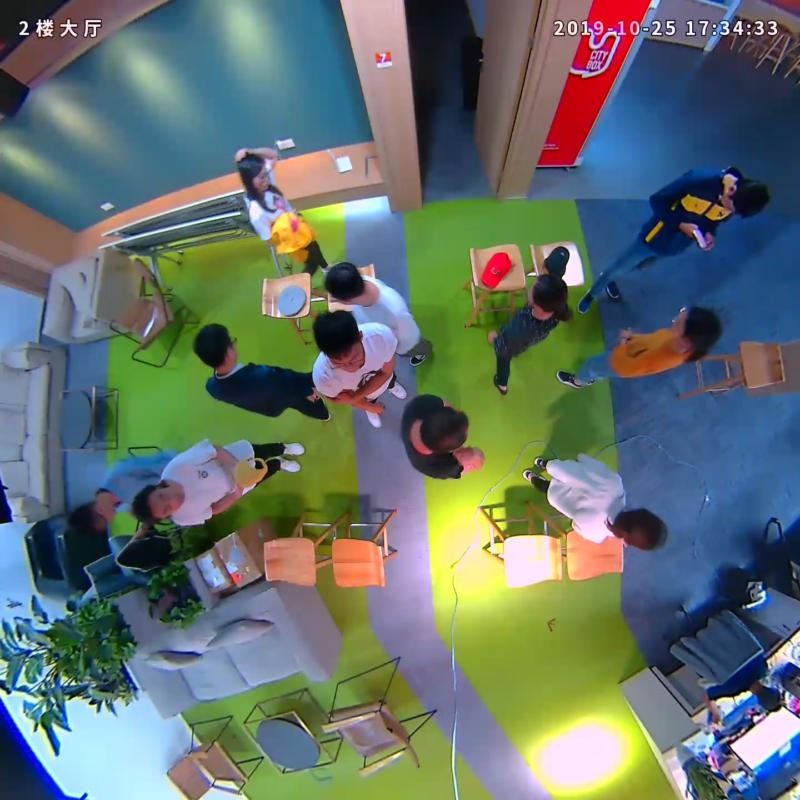head: (313, 310, 364, 373), (419, 405, 469, 453), (669, 305, 721, 351), (720, 177, 771, 220), (193, 322, 236, 370), (131, 484, 181, 525), (618, 509, 665, 550), (323, 261, 364, 306), (69, 499, 118, 534), (528, 274, 567, 314), (238, 153, 270, 192)
